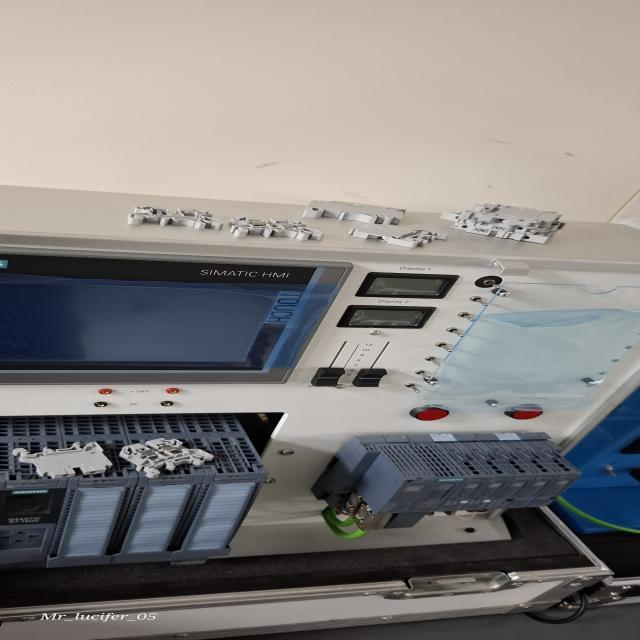Inverted: (3, 439, 116, 481), (348, 220, 462, 254)
Pass: (222, 204, 337, 247), (120, 438, 227, 482)
Reject: (95, 194, 228, 238)
